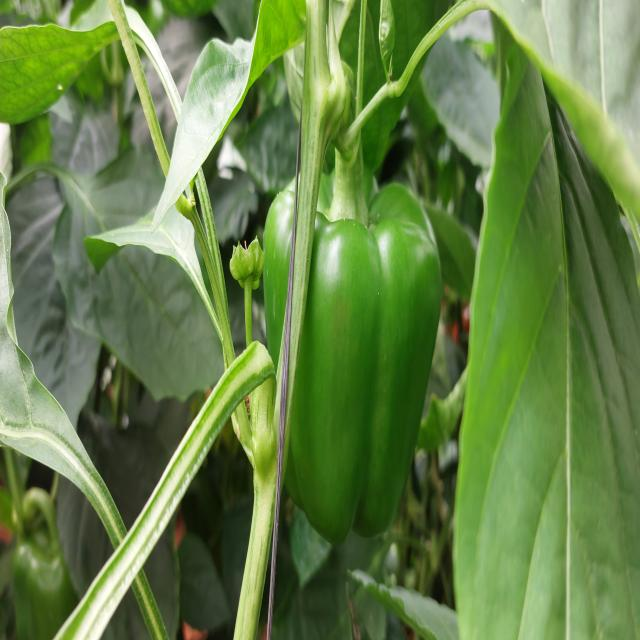Green--Not-ready-to-harvest: (267, 156, 445, 530)
